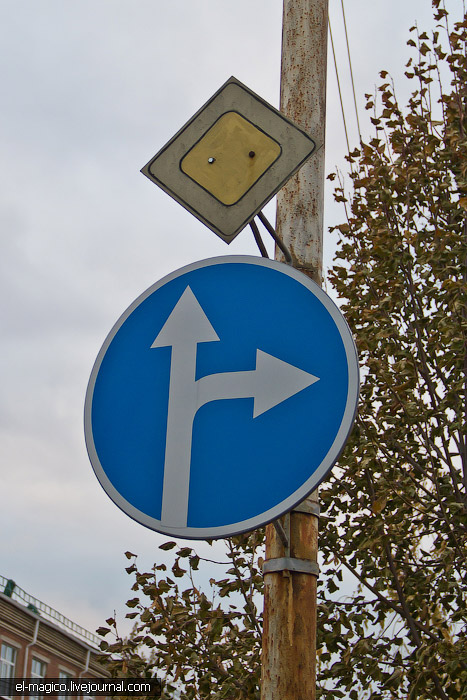ileri_veya_saga: (83, 253, 363, 545)
